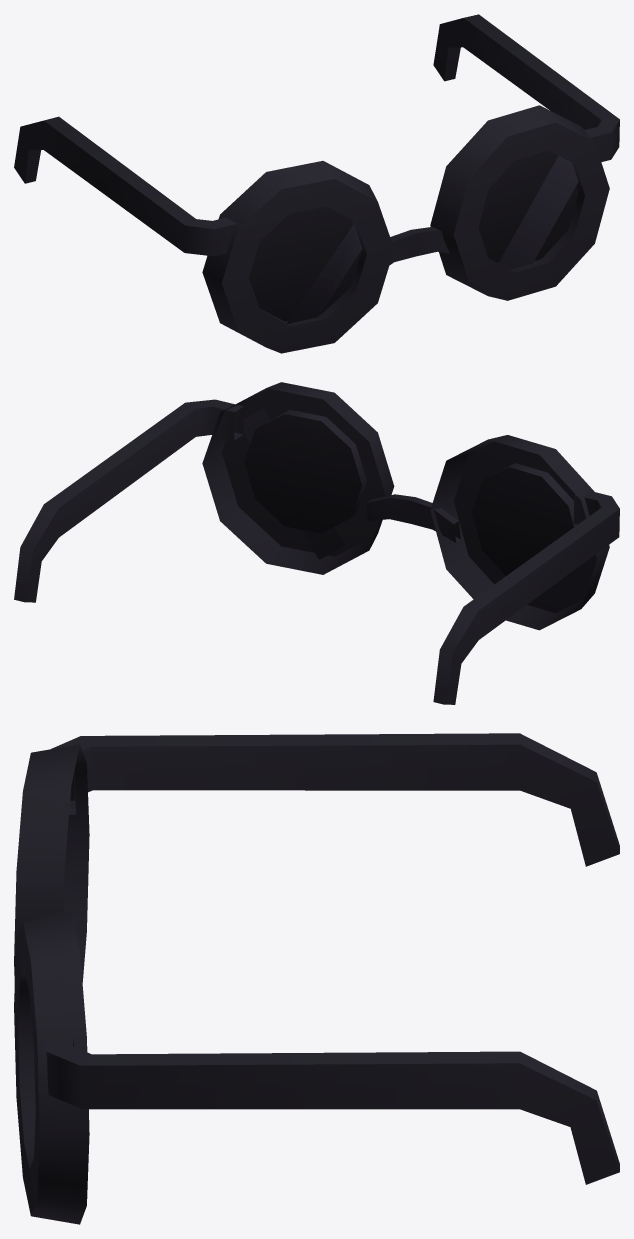
Rendered from Shades Shadow.FBX.
The picture shows the model from 3 angles, top to bottom: view 1: azimuth 30°, elevation 25°; view 2: azimuth 150°, elevation 25°; view 3: azimuth 270°, elevation 25°; orthographic projection. The views are drawn at different scales.
Visible parts, largest first — view 1: Shades Shadow; view 2: Shades Shadow; view 3: Shades Shadow.
Boxes of the visible parts, x1,y1,x2,y2 form: Shades Shadow: (14, 14, 619, 353); Shades Shadow: (14, 382, 619, 704); Shades Shadow: (14, 733, 619, 1224).
Bounding box in the file's own units: 43.28 × 16.69 × 33.58.
1 material, 1 textured.
